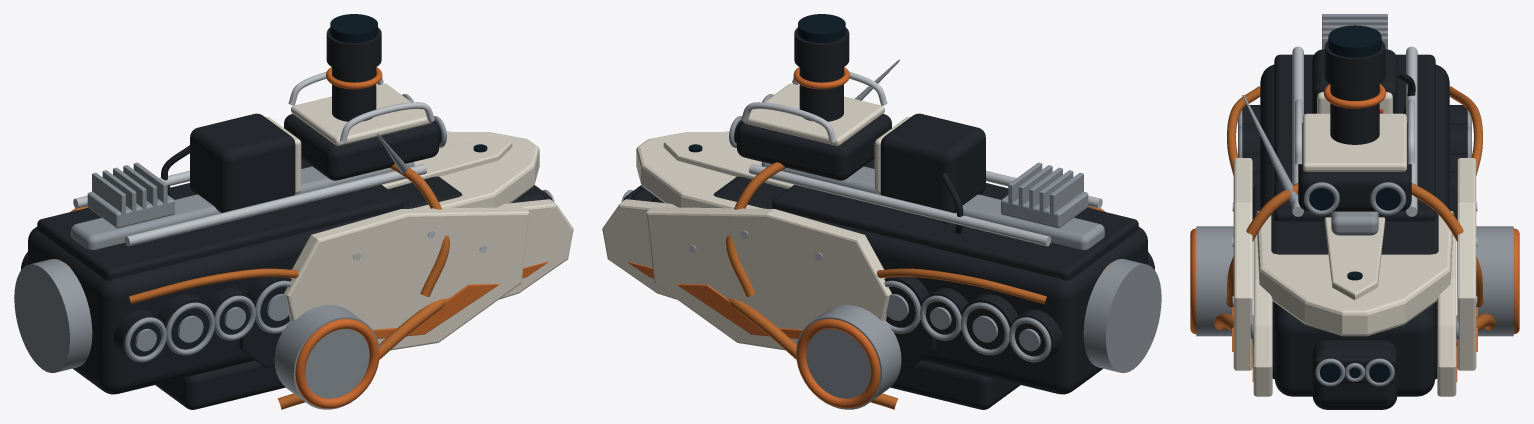
The picture shows the model from 3 angles, left to right: view 1: azimuth 30°, elevation 25°; view 2: azimuth 150°, elevation 25°; view 3: azimuth 270°, elevation 25°; orthographic projection. The views are drawn at different scales.
Parts seen in each view (by area): view 1: base_link; view 2: base_link; view 3: base_link.
Part boxes in pixels (box(x1,y1,x2,y2)): base_link: box(14, 14, 573, 409); base_link: box(602, 14, 1161, 409); base_link: box(1190, 14, 1519, 409).
Bounding box in the file's own units: 0.6675 × 0.416 × 0.348.
